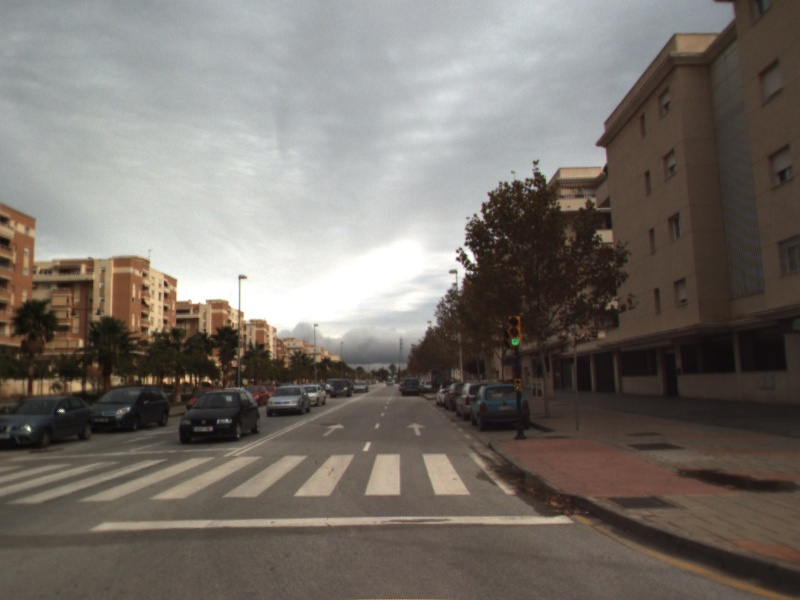STRAIGHT: (320, 421, 347, 438), (404, 420, 429, 437)
